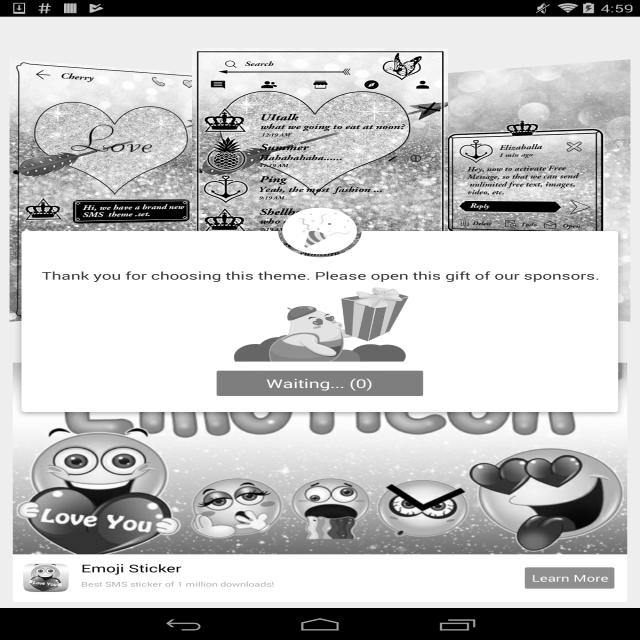CheckBox: (21, 136, 191, 168)
EditText: (21, 95, 619, 127)
ImageButton: (9, 17, 68, 59)
Spinner: (21, 59, 619, 92)
TextView: (26, 168, 618, 194), (21, 65, 602, 85), (85, 40, 468, 54), (534, 22, 632, 54), (85, 22, 178, 40)
